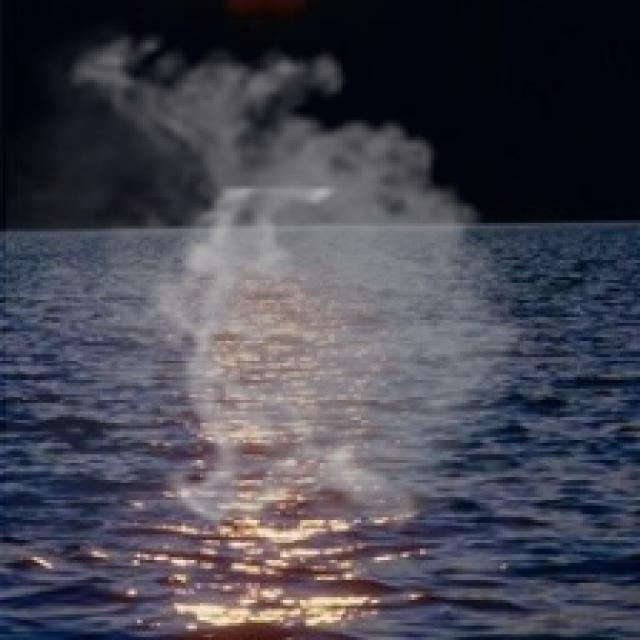smoke: (6, 17, 557, 537)
